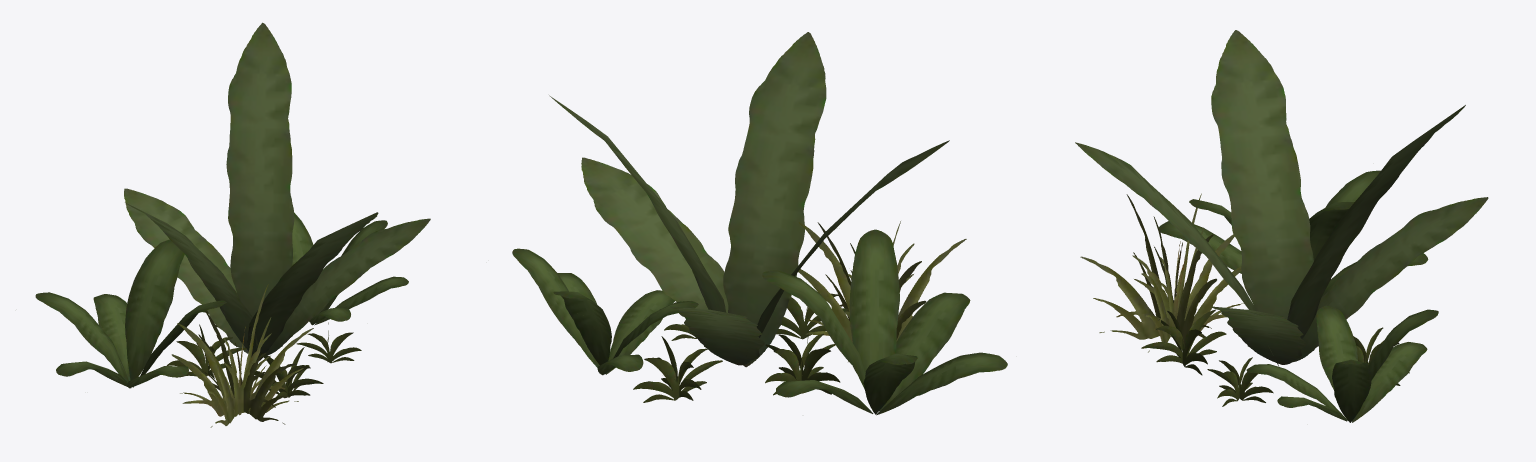
The picture shows the model from 3 angles, left to right: view 1: azimuth 30°, elevation 25°; view 2: azimuth 150°, elevation 25°; view 3: azimuth 270°, elevation 25°; orthographic projection. The views are drawn at different scales.
Visible parts, largest first — view 1: body0_model0_lod0_mesh0; view 2: body0_model0_lod0_mesh0; view 3: body0_model0_lod0_mesh0.
Part boxes in pixels (x1=…): body0_model0_lod0_mesh0: x1=35, y1=22, x2=430, y2=427; body0_model0_lod0_mesh0: x1=512, y1=32, x2=1007, y2=415; body0_model0_lod0_mesh0: x1=1075, y1=30, x2=1488, y2=422.
Size of the model in its own units: 182 by 124 by 156.
1 material, 1 textured.
